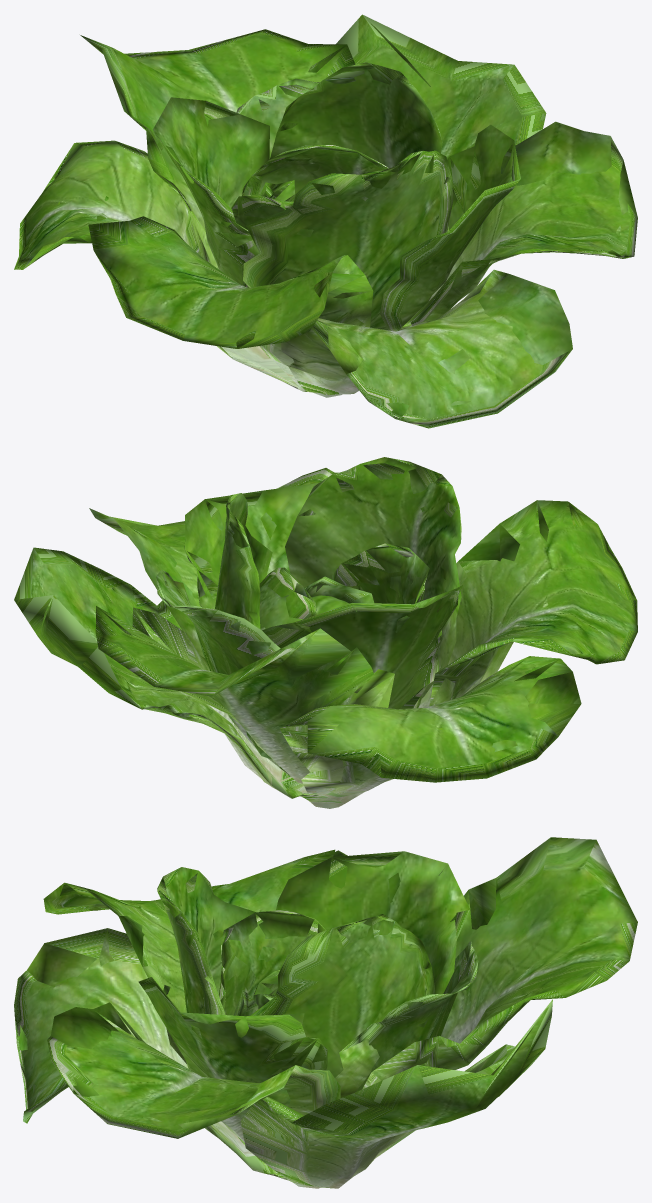
File: Lettuce.fbx
3 views of the same model, one above another, from view 1: azimuth 30°, elevation 25°; view 2: azimuth 150°, elevation 25°; view 3: azimuth 270°, elevation 25° (orthographic). The views are drawn at different scales.
Visible parts, largest first — view 1: 10187_LettuceBibb_v1-L2.001; view 2: 10187_LettuceBibb_v1-L2.001; view 3: 10187_LettuceBibb_v1-L2.001.
Boxes of the visible parts, box(x1,y1,x2,y2) form: 10187_LettuceBibb_v1-L2.001: box(14, 14, 637, 428); 10187_LettuceBibb_v1-L2.001: box(14, 457, 637, 808); 10187_LettuceBibb_v1-L2.001: box(14, 837, 637, 1188).
Bounding box in the file's own units: 1.02 × 1.01 × 0.5343.
